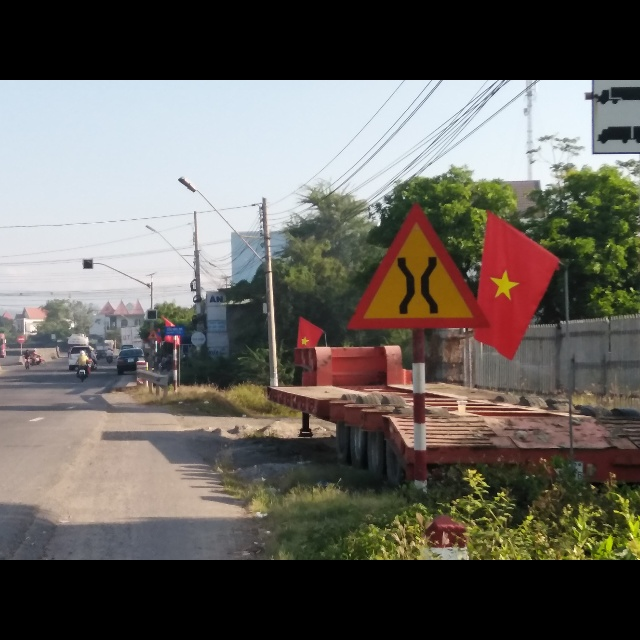Cầu hẹp: (345, 197, 486, 332)
